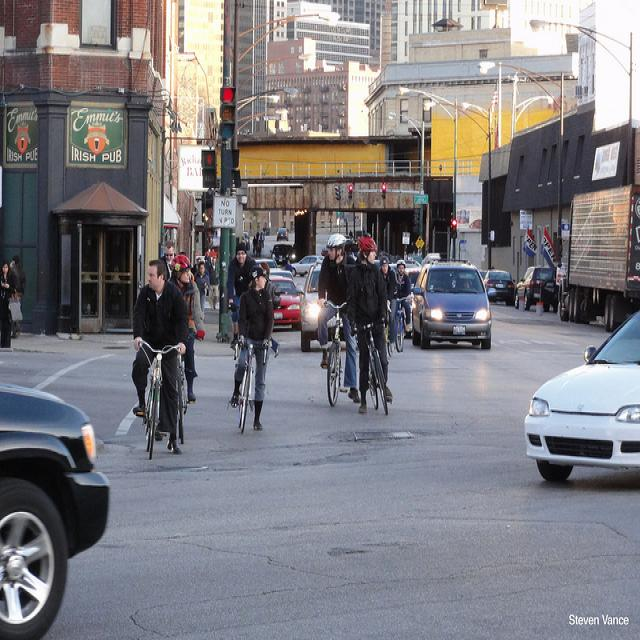Vehicle: (2, 390, 114, 630), (524, 308, 640, 487), (557, 187, 640, 331), (410, 258, 492, 353), (514, 266, 559, 314), (271, 268, 301, 334), (301, 265, 323, 354), (484, 270, 516, 304), (291, 254, 324, 277), (404, 260, 422, 291), (270, 244, 296, 264), (419, 253, 441, 267), (276, 227, 288, 241)
